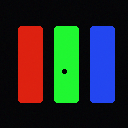0 point: (62, 69, 66, 73)
